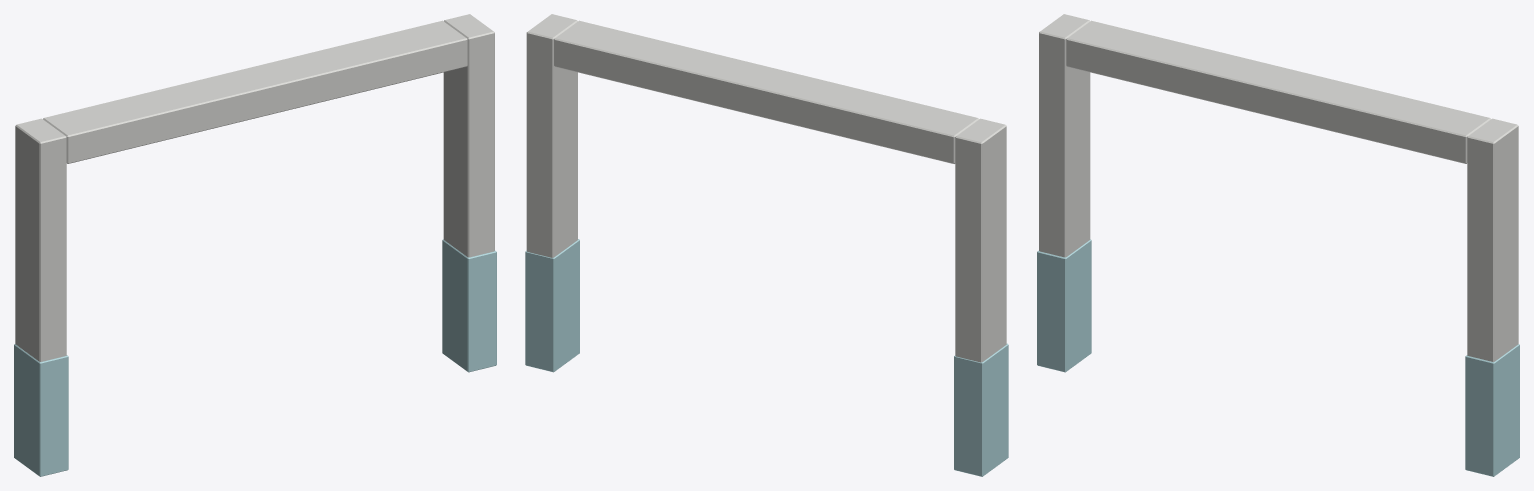
File: facility_portal.glb
The picture shows the model from 3 angles, left to right: view 1: azimuth 30°, elevation 25°; view 2: azimuth 150°, elevation 25°; view 3: azimuth 330°, elevation 25°; orthographic projection.
Parts seen in each view (by area): view 1: VIS_formal_plaster, VIS_formal_wainscot; view 2: VIS_formal_plaster, VIS_formal_wainscot; view 3: VIS_formal_plaster, VIS_formal_wainscot.
Part boxes in pixels (<box>): VIS_formal_plaster: <box>15,14,494,361</box>; VIS_formal_wainscot: <box>14,239,496,476</box>; VIS_formal_plaster: <box>526,14,1006,362</box>; VIS_formal_wainscot: <box>525,239,1008,476</box>; VIS_formal_plaster: <box>1039,14,1518,361</box>; VIS_formal_wainscot: <box>1037,239,1519,476</box>.
Size of what is drawn, in the model's own units: 5.02 by 3.5 by 0.5.
